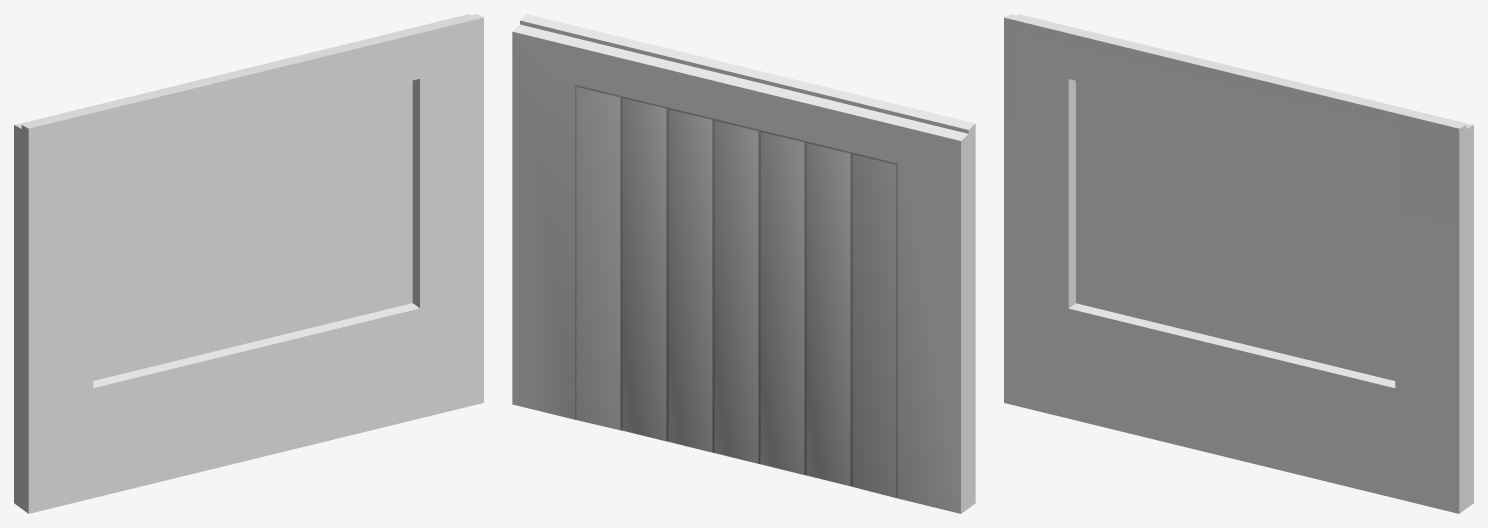
File: StableDoorWhiteLOWER01.fbx
3 views of the same model, side by side, from view 1: azimuth 30°, elevation 25°; view 2: azimuth 150°, elevation 25°; view 3: azimuth 330°, elevation 25° (orthographic).
Parts seen in each view (by area): view 1: default; view 2: default; view 3: default.
Boxes of the visible parts, x1=… form: default: x1=14, y1=14, x2=483, y2=513; default: x1=512, y1=14, x2=975, y2=513; default: x1=1004, y1=14, x2=1473, y2=513.
Bounding box in the file's own units: 113 × 91.3 × 6.29.
